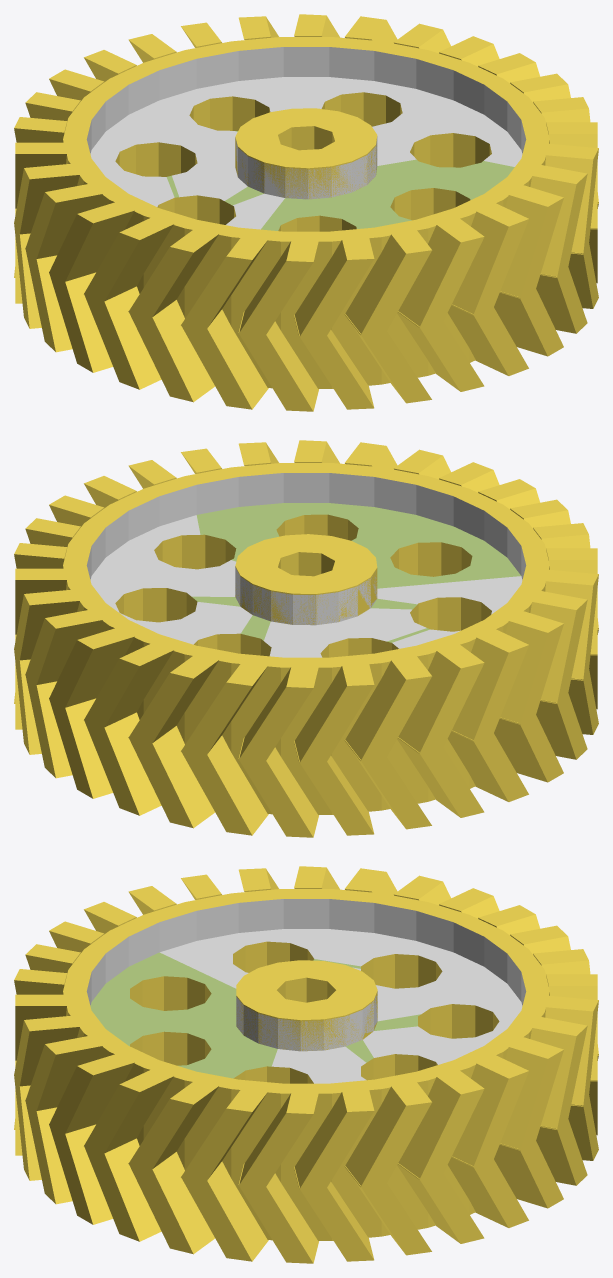
File: deck-helical-gears.glb
The picture shows the model from 3 angles, top to bottom: view 1: azimuth 30°, elevation 25°; view 2: azimuth 150°, elevation 25°; view 3: azimuth 270°, elevation 25°; orthographic projection.
Visible parts, largest first — view 1: scad_box_herringbone_teeth, circle_center_root_web, extrude_out_center_hub; view 2: scad_box_herringbone_teeth, circle_center_root_web, extrude_out_center_hub; view 3: scad_box_herringbone_teeth, circle_center_root_web, extrude_out_center_hub.
Part boxes in pixels (bbox=[...]): scad_box_herringbone_teeth: bbox=[14, 14, 598, 411]; circle_center_root_web: bbox=[63, 37, 549, 388]; extrude_out_center_hub: bbox=[235, 108, 377, 198]; scad_box_herringbone_teeth: bbox=[14, 440, 598, 837]; circle_center_root_web: bbox=[63, 463, 549, 814]; extrude_out_center_hub: bbox=[235, 534, 377, 624]; scad_box_herringbone_teeth: bbox=[14, 866, 598, 1263]; circle_center_root_web: bbox=[63, 889, 549, 1240]; extrude_out_center_hub: bbox=[236, 960, 377, 1050].
Bounding box in the file's own units: 49.4 × 13.9 × 49.25.
